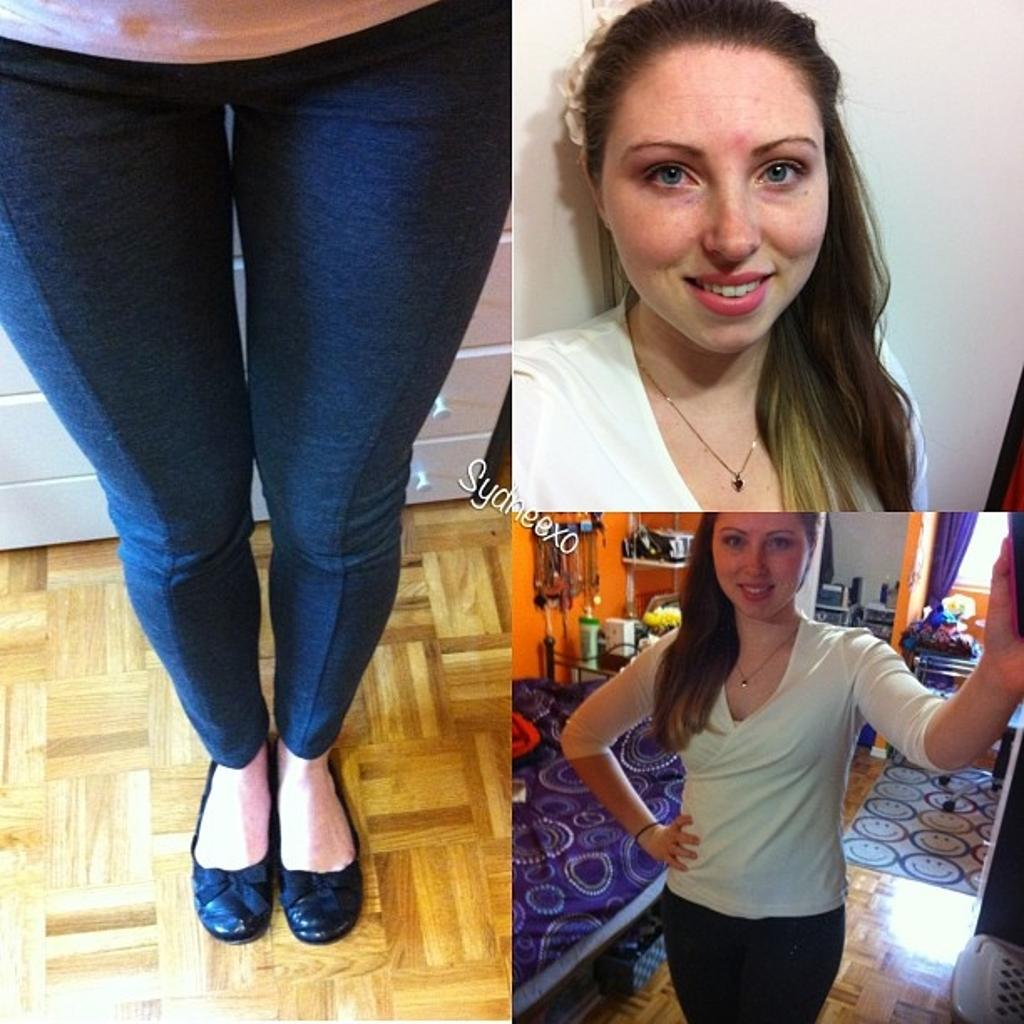face: (602, 44, 826, 352), (714, 520, 812, 614)
